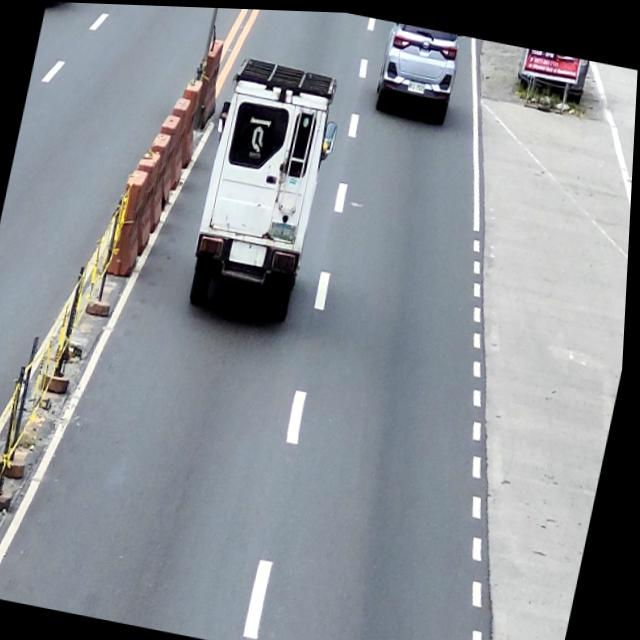Car: (182, 50, 350, 325), (372, 18, 467, 122)
License-Plate: (270, 219, 299, 240), (407, 77, 427, 92)
